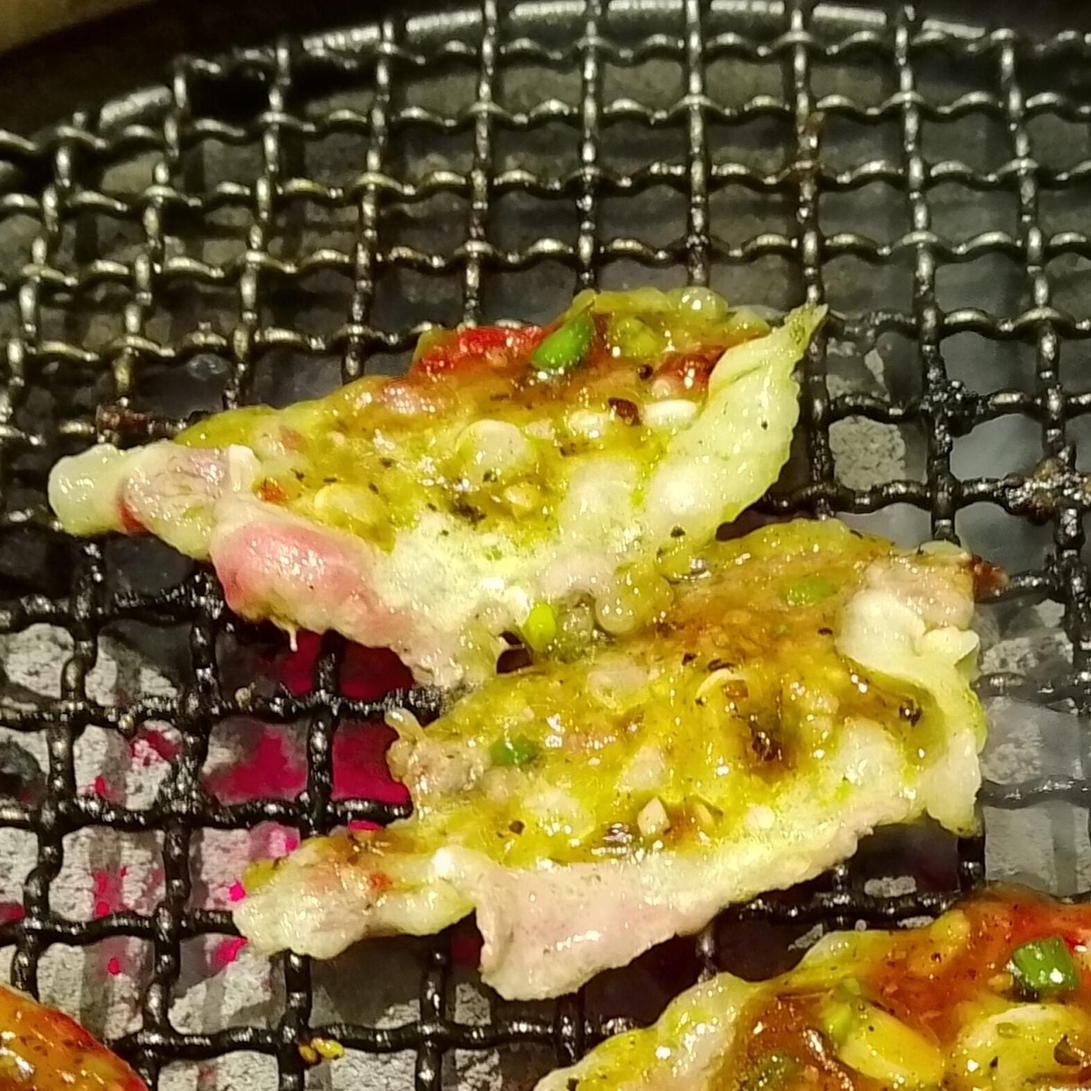Undercooked: (49, 287, 991, 1007), (532, 892, 1090, 1090), (0, 986, 148, 1090)
